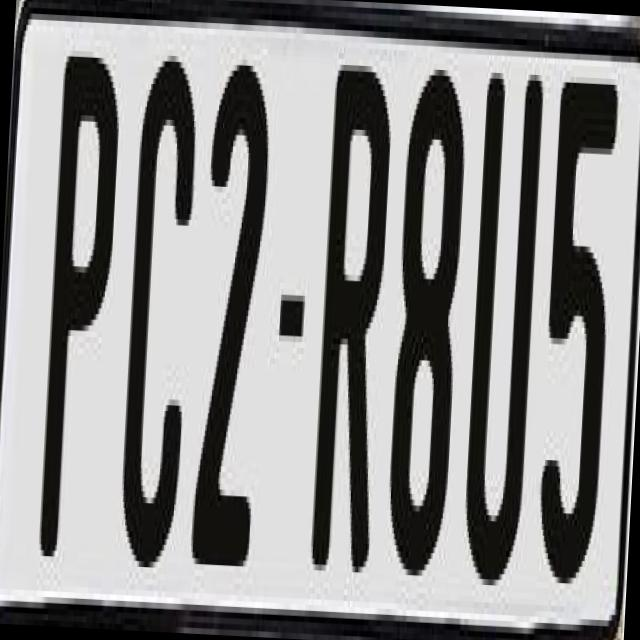2: (189, 64, 279, 590)
5: (530, 70, 624, 602)
8: (383, 69, 469, 612)
C: (115, 42, 201, 568)
P: (34, 50, 128, 565)
R: (310, 48, 404, 574)
U: (462, 55, 555, 576)
